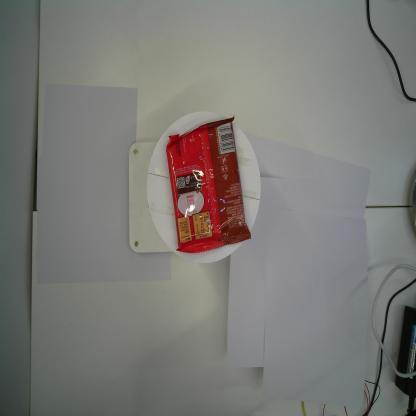Dessert: (165, 113, 252, 254)
